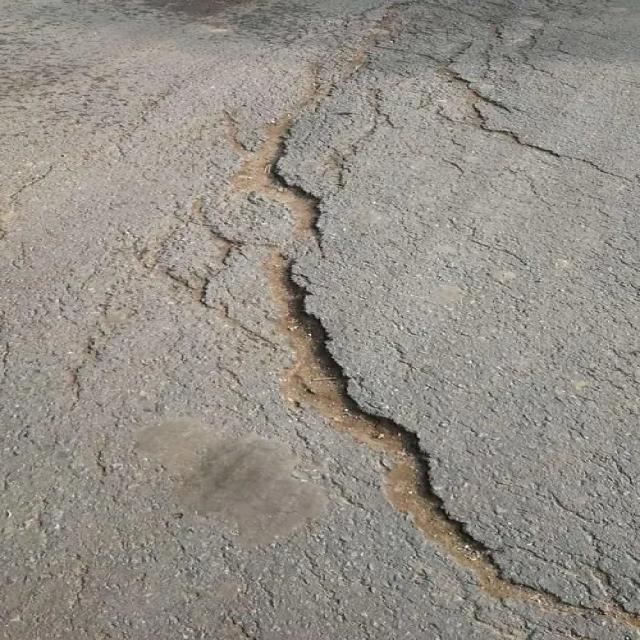Pothole: (197, 28, 612, 625)
